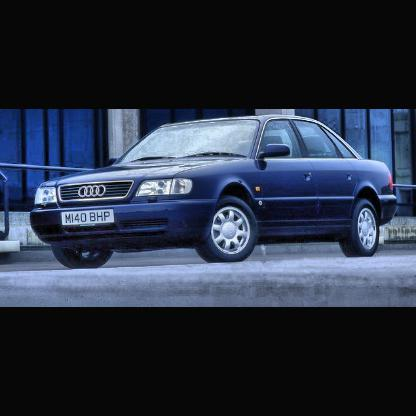Audi 100 Sedan 1994: (32, 115, 400, 270)
